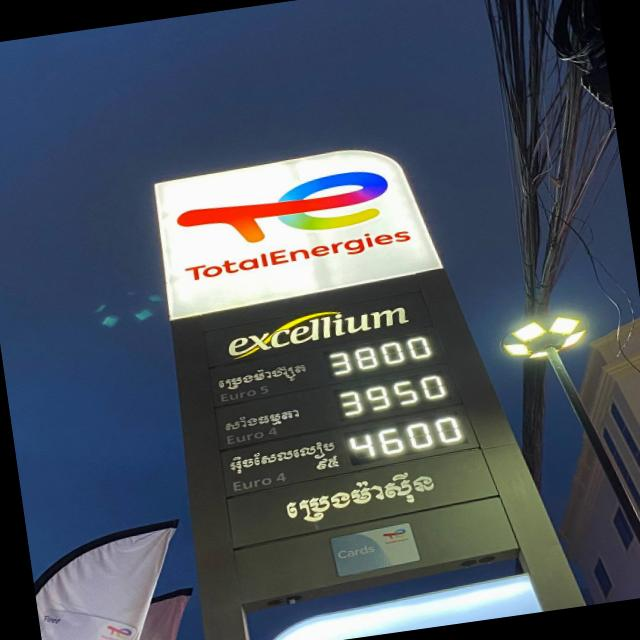733: (320, 330, 436, 384)
737: (331, 368, 458, 424)
757: (344, 408, 469, 466)
Yolov11kh: (274, 460, 454, 540), (223, 431, 342, 483), (214, 358, 313, 400), (217, 403, 313, 438), (314, 452, 344, 474)
